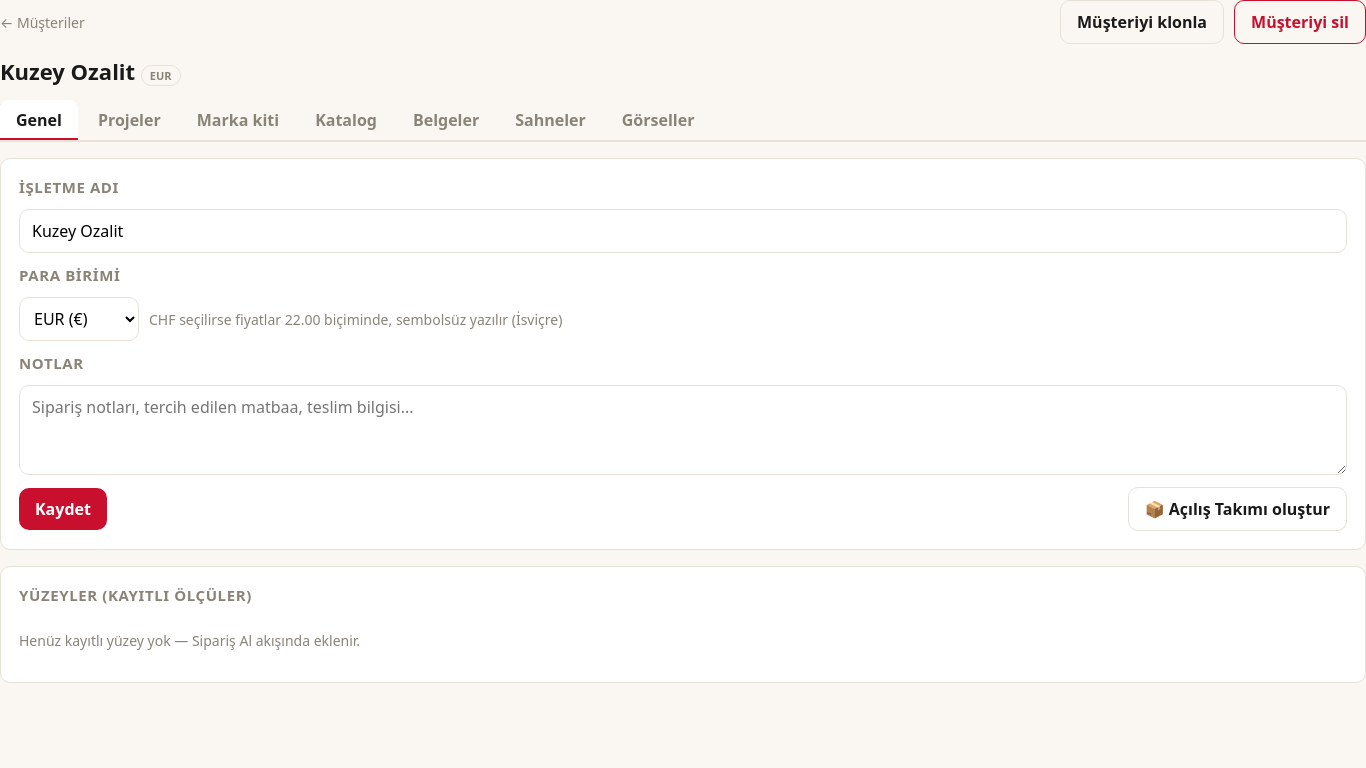
Scenario: HATA ARTIK YUTULMUYOR › SUNUCU REDDEDERSE gerekçe ekranda kalır ve yeni müşteriye GİDİLMEZ
The image size is (1366, 768).
Click the button "Müşteriyi klonla" at (1142, 22), box [1060,0,1224,44]
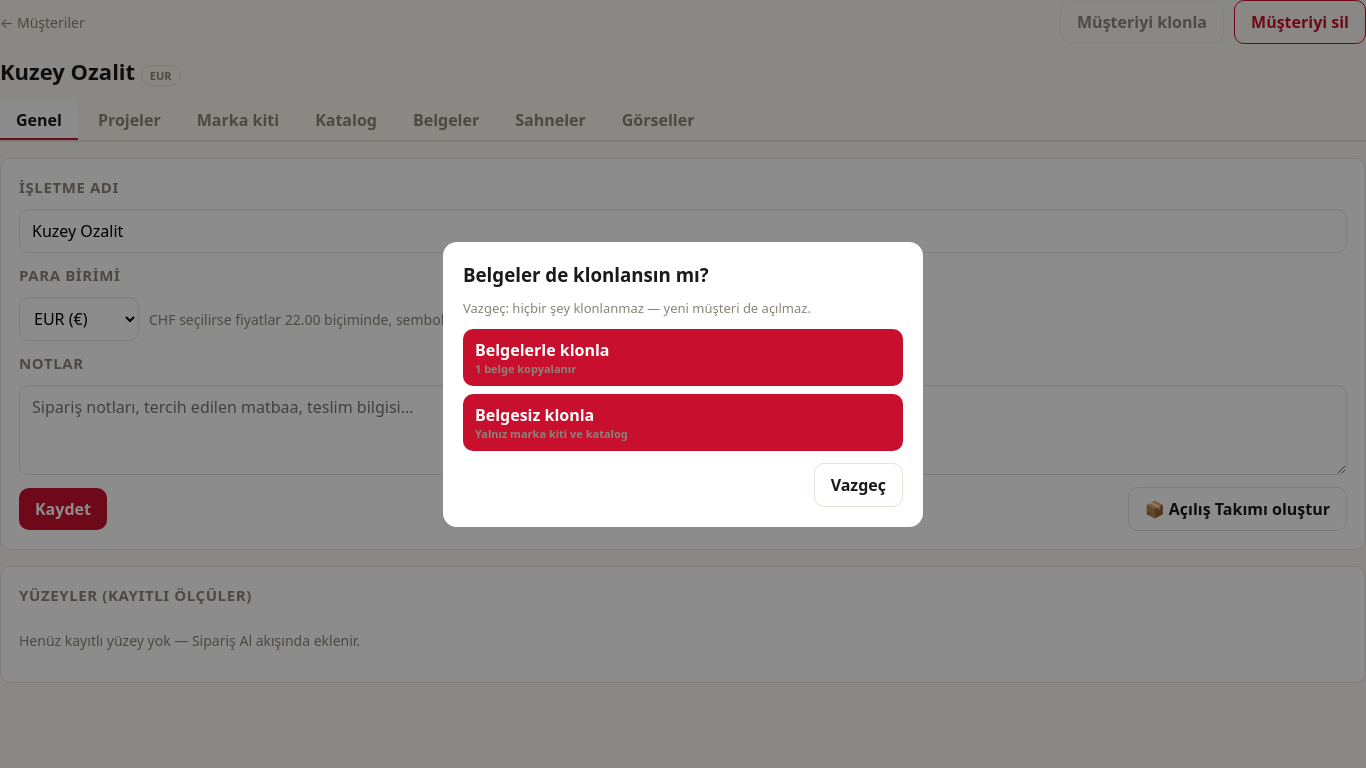
Click the button "Belgelerle klonla 1 belge kopyalanır" at (542, 350), box [463,328,903,386]
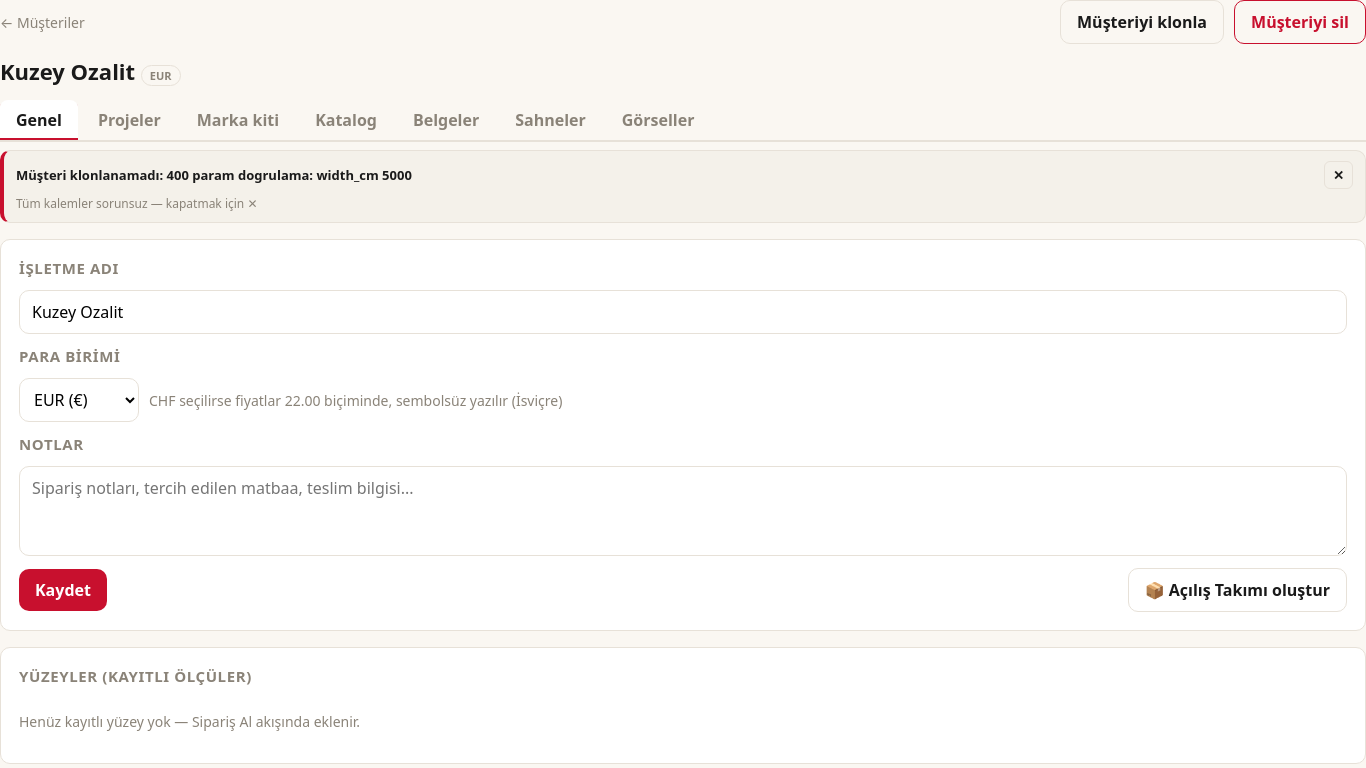
Now the text "Müşteri klonlanamadı: 400 param dogrulama: width_cm 5000" is shown, box [16,166,412,184]
